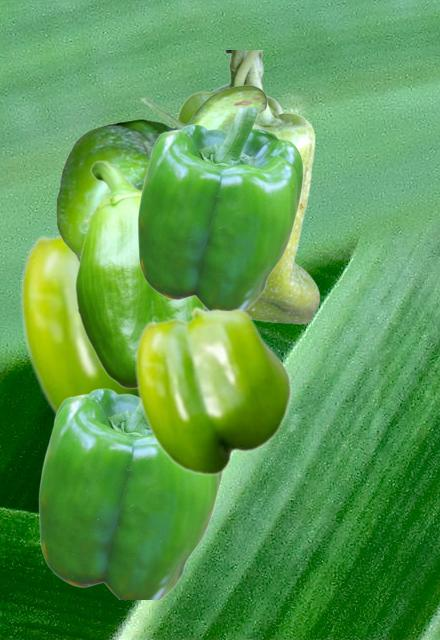bell_pepper: (176, 50, 319, 323), (38, 388, 223, 598), (56, 84, 269, 264), (137, 108, 302, 309), (74, 160, 203, 388), (135, 306, 291, 475), (20, 230, 136, 418)
